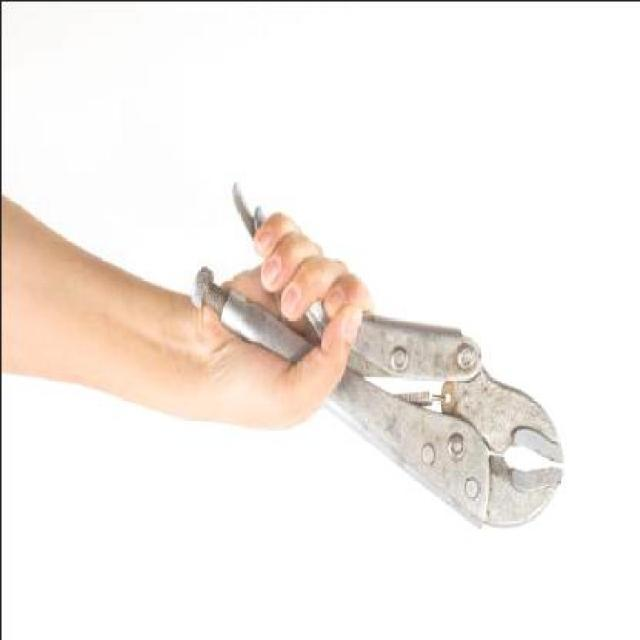pliers: (377, 318, 565, 537)
